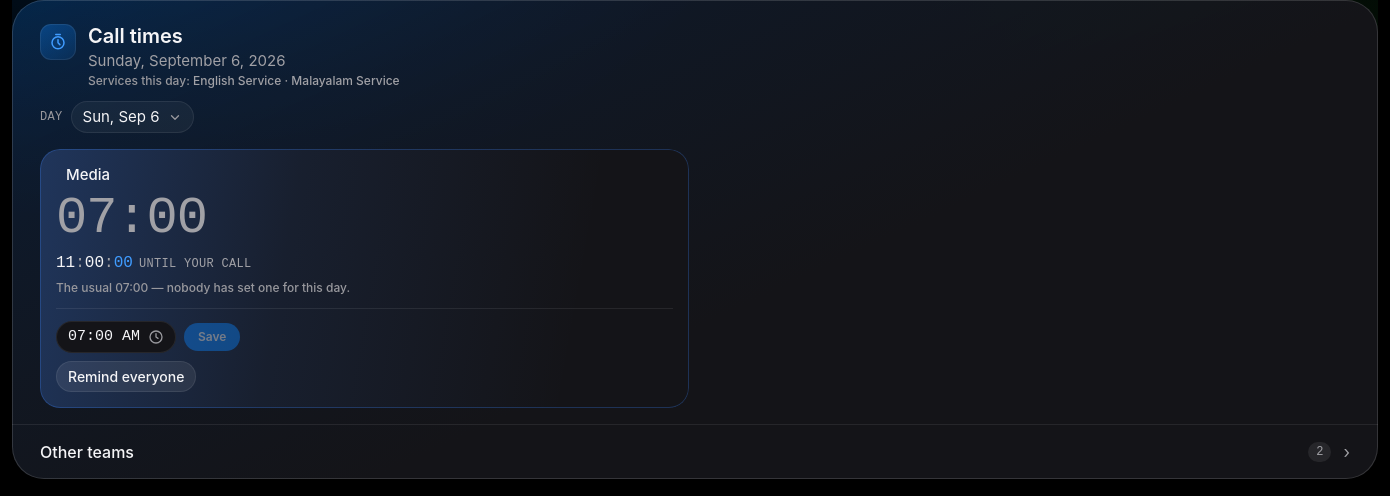
Test case: reminding a team of its call time (0224) › lets whoever runs a team remind everyone on it, for the day shown
The width and height of the screenshot is (1390, 496).
What coordinates should you click on to do the following:
click the button named "Remind everyone on Media of their call time"
I would click on:
 (126, 376)
Its box is [56, 361, 196, 392].
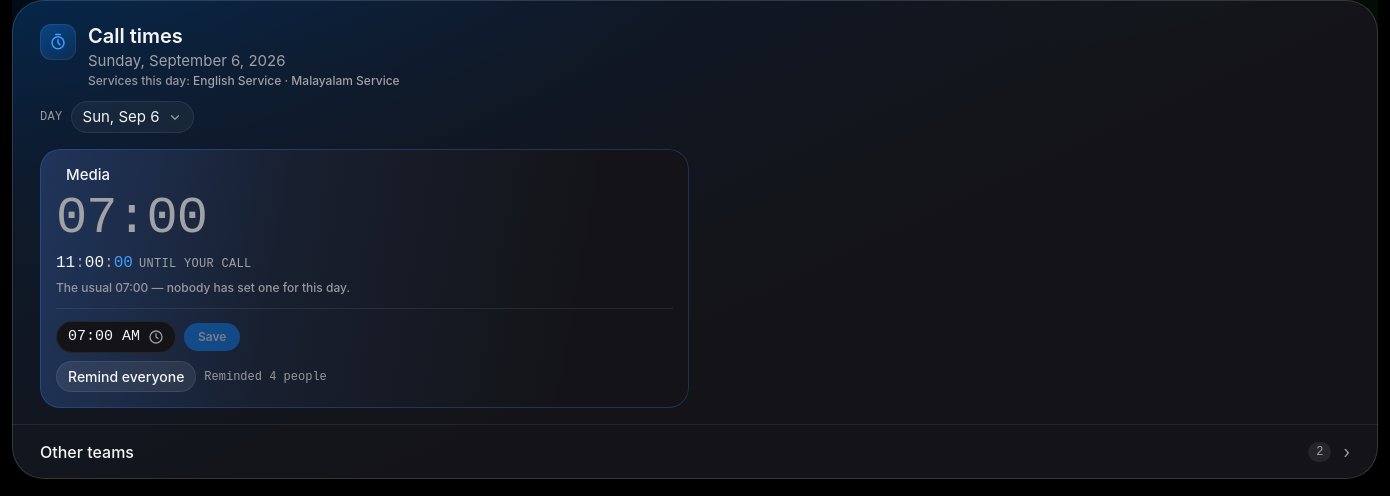
Now the text "Reminded 4 people" is shown, box [204, 368, 327, 384]
